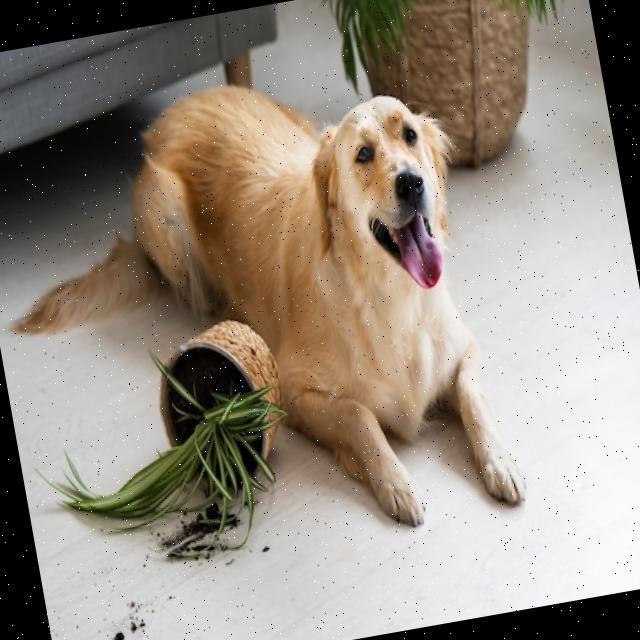Dog: (0, 38, 533, 591)
